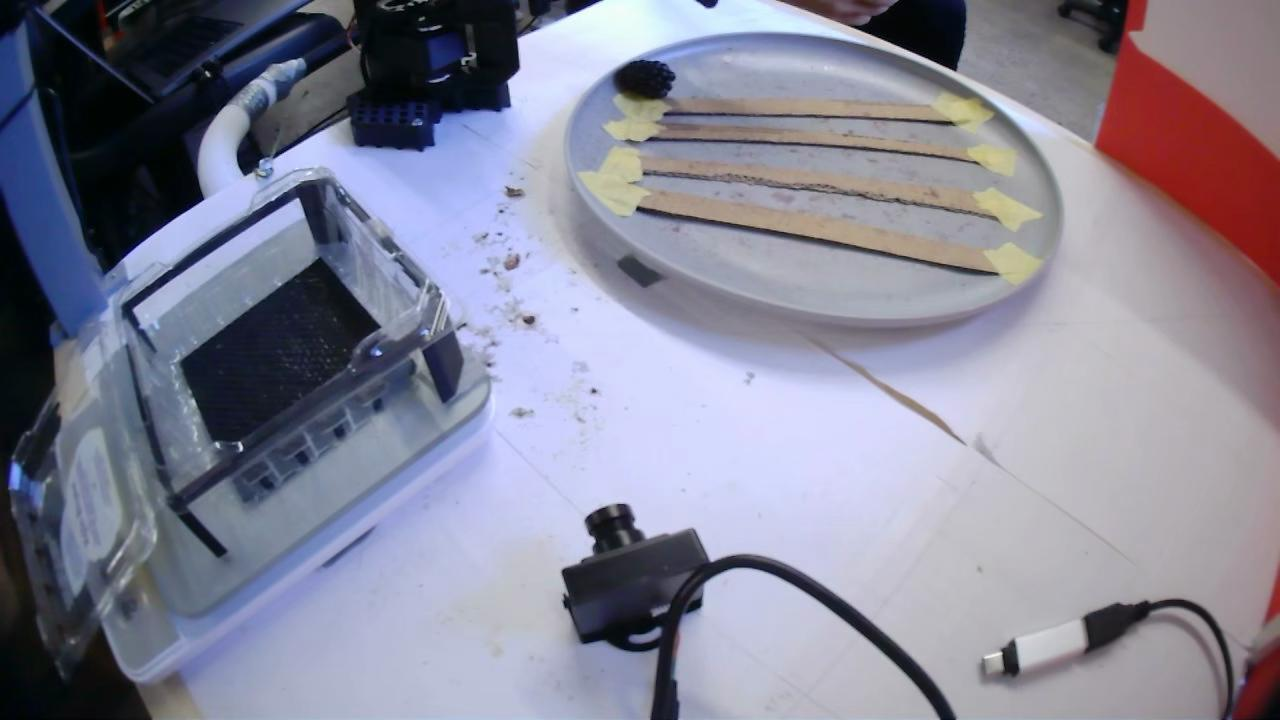berry: (614, 59, 675, 99)
